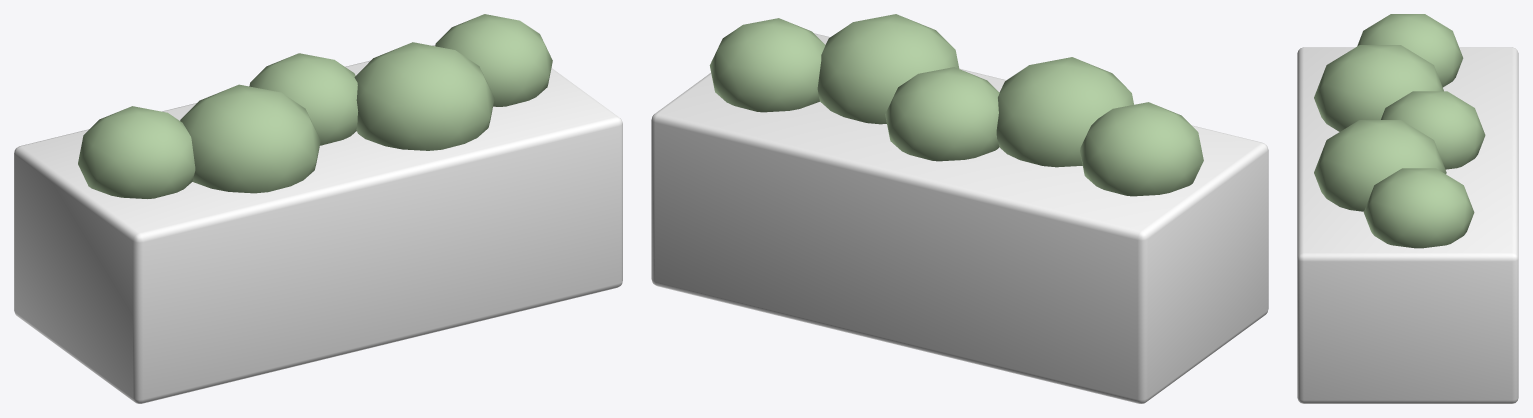
The model's file is planter_box_01.glb.
3 views of the same model, side by side, from view 1: azimuth 30°, elevation 25°; view 2: azimuth 150°, elevation 25°; view 3: azimuth 270°, elevation 25° (orthographic). The views are drawn at different scales.
Parts seen in each view (by area): view 1: planter_box_01_box, planter_box_01_leaves; view 2: planter_box_01_box, planter_box_01_leaves; view 3: planter_box_01_box, planter_box_01_leaves.
Boxes of the visible parts, box(x1,y1,x2,y2) form: planter_box_01_box: box(14, 45, 622, 403); planter_box_01_leaves: box(78, 14, 552, 198); planter_box_01_box: box(651, 33, 1268, 403); planter_box_01_leaves: box(709, 14, 1203, 196); planter_box_01_box: box(1297, 47, 1518, 403); planter_box_01_leaves: box(1314, 14, 1485, 248).
Size of the model in its own units: 0.9 by 0.426 by 0.4.
